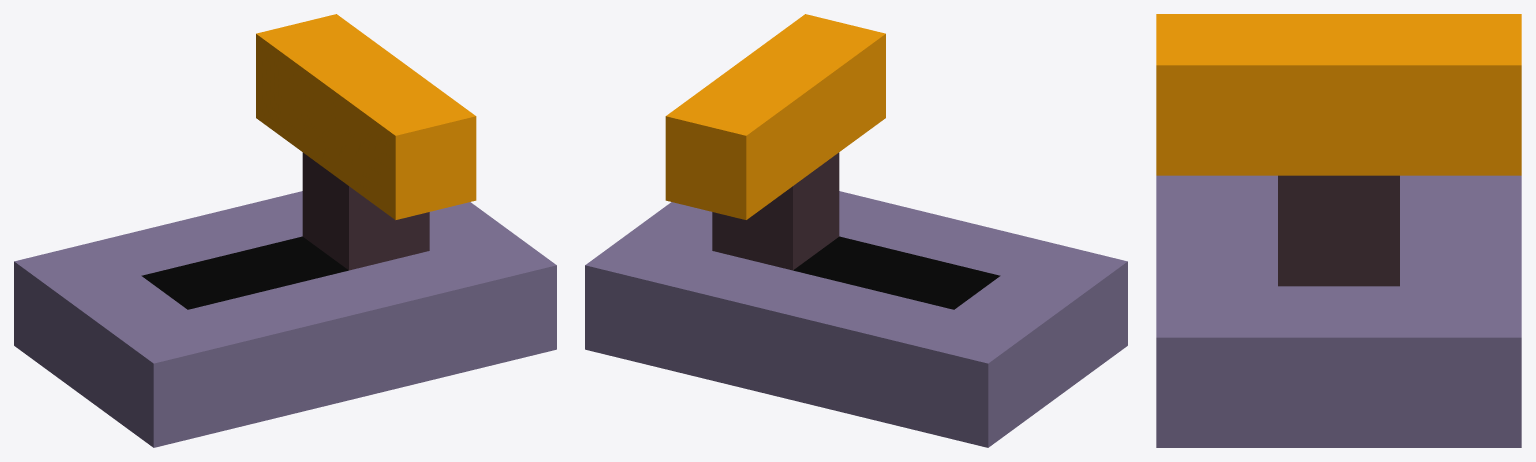
The model's file is lever_a_a_yellow_on.obj.
3 renders of one model, left to right at view 1: azimuth 30°, elevation 25°; view 2: azimuth 150°, elevation 25°; view 3: azimuth 270°, elevation 25°, orthographic. The views are drawn at different scales.
Bounding box in the file's own units: 0.5 × 0.3 × 0.3.
Materials: 1 (1 with a texture image).
